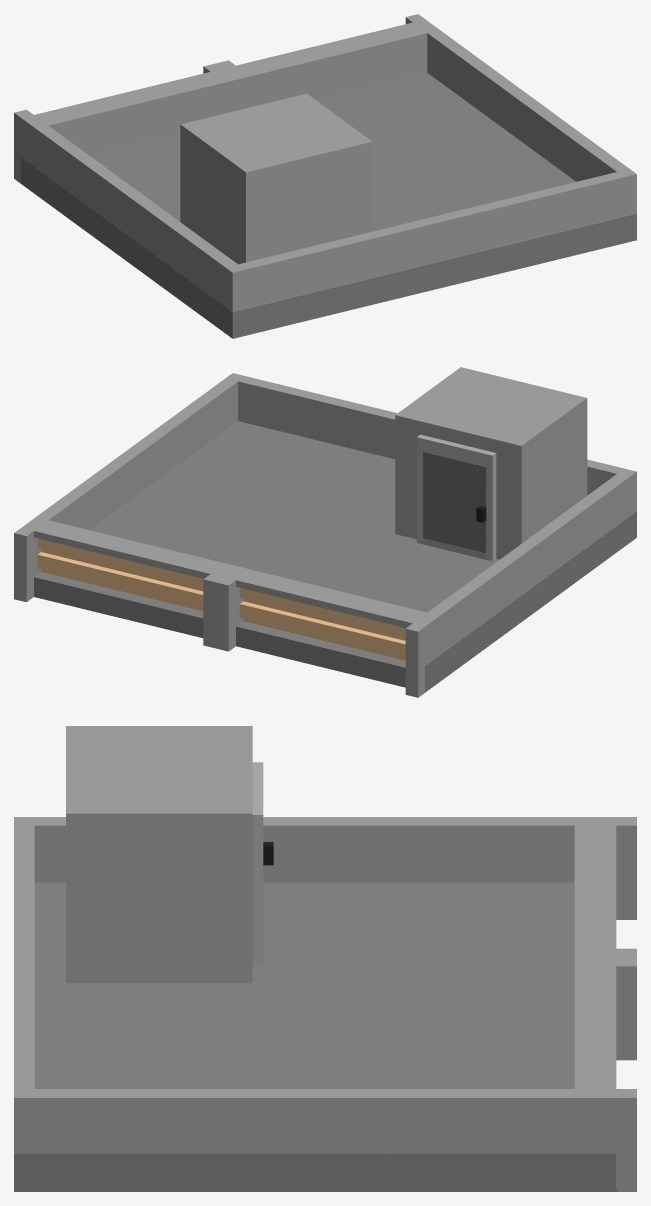
The model's file is obj_story04a.fbx.
3 renders of one model, top to bottom at view 1: azimuth 30°, elevation 25°; view 2: azimuth 150°, elevation 25°; view 3: azimuth 270°, elevation 25°, orthographic. The views are drawn at different scales.
Visible parts, largest first — view 1: obj_story04a; view 2: obj_story04a; view 3: obj_story04a.
Boxes of the visible parts, left/top/right/bottom form: obj_story04a: left=14, top=14, right=636, bottom=338; obj_story04a: left=14, top=367, right=636, bottom=697; obj_story04a: left=14, top=726, right=636, bottom=1191.
Bounding box in the file's own units: 6.4 × 6 × 2.2.
Materials: 1 (1 with a texture image).
